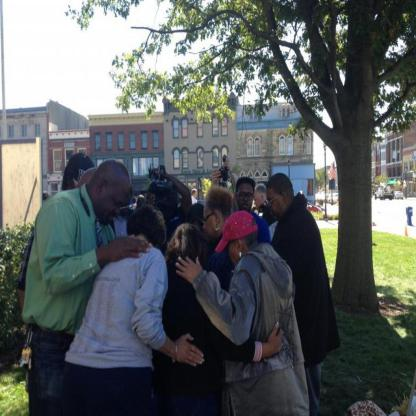face: (96, 189, 131, 226), (267, 189, 286, 217), (205, 208, 221, 241), (227, 235, 243, 268), (239, 187, 254, 213), (254, 193, 263, 210), (196, 192, 199, 198)
